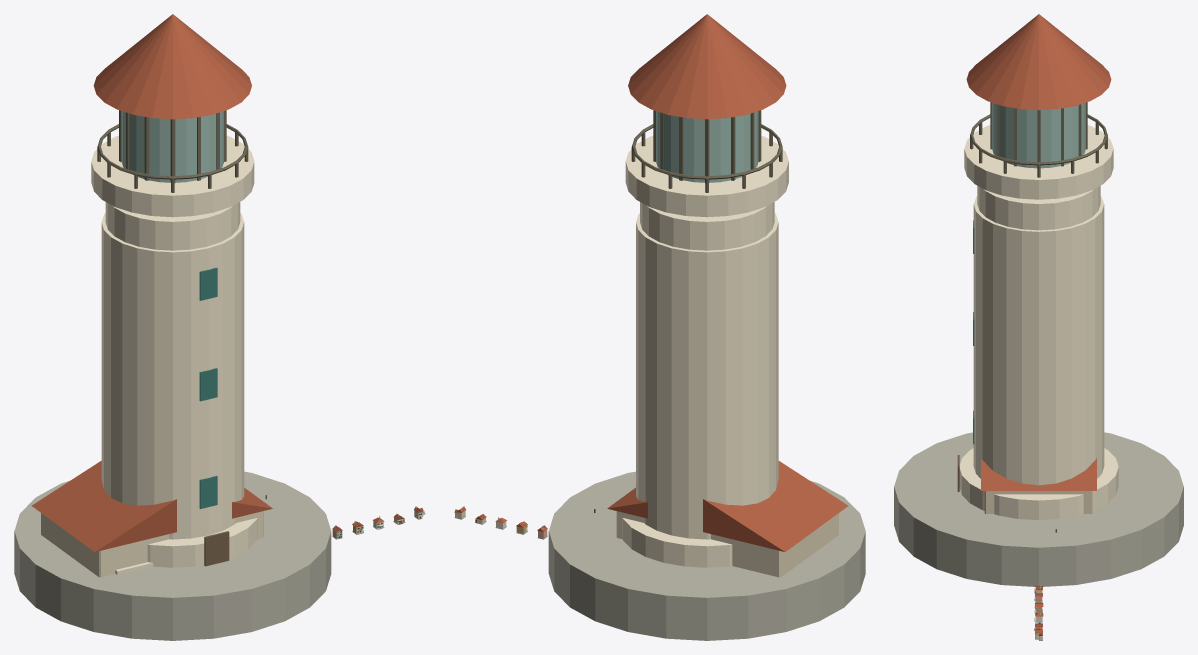
File: environment.glb
3 views of the same model, side by side, from view 1: azimuth 30°, elevation 25°; view 2: azimuth 150°, elevation 25°; view 3: azimuth 270°, elevation 25° (orthographic). The views are drawn at different scales.
Visible parts, largest first — view 1: Tower section.001, Base plinth, Lantern roof, Warehouse roof, Tower section.003, Tower section.004, Tower section.002, Warehouse walls, Tower section, Balcony rail, Tower door; view 2: Tower section.001, Base plinth, Lantern roof, Warehouse roof, Tower section.003, Tower section.004, Tower section.002, Tower section, Warehouse walls, Balcony rail; view 3: Tower section.001, Base plinth, Lantern roof, Tower section.003, Tower section.004, Tower section, Tower section.002, Warehouse roof, Warehouse walls, Balcony rail.
Part boxes in pixels (<box>): Tower section.001: <box>101,213,244,539</box>; Base plinth: <box>14,471,331,640</box>; Lantern roof: <box>93,14,251,119</box>; Warehouse roof: <box>31,460,272,551</box>; Tower section.003: <box>91,135,254,217</box>; Tower section.004: <box>121,111,223,182</box>; Tower section.002: <box>105,202,240,250</box>; Warehouse walls: <box>41,511,263,577</box>; Tower section: <box>147,518,257,567</box>; Balcony rail: <box>97,124,248,179</box>; Tower door: <box>204,531,229,566</box>; Tower section.001: <box>636,213,778,539</box>; Base plinth: <box>548,471,865,640</box>; Lantern roof: <box>628,14,786,119</box>; Warehouse roof: <box>607,461,848,551</box>; Tower section.003: <box>625,135,788,217</box>; Tower section.004: <box>656,111,758,182</box>; Tower section.002: <box>640,202,774,250</box>; Tower section: <box>622,518,732,567</box>; Warehouse walls: <box>616,511,838,577</box>; Balcony rail: <box>632,124,782,179</box>; Tower section.001: <box>973,196,1104,485</box>; Base plinth: <box>894,432,1183,586</box>; Lantern roof: <box>966,14,1111,110</box>; Tower section.003: <box>964,125,1113,199</box>; Tower section.004: <box>992,102,1085,168</box>; Tower section: <box>959,448,1118,520</box>; Tower section.002: <box>977,186,1100,230</box>; Warehouse roof: <box>981,458,1096,490</box>; Warehouse walls: <box>984,491,1093,513</box>; Balcony rail: <box>970,114,1107,165</box>.
Bounding box in the file's own units: 56.56 × 79.25 × 40.
